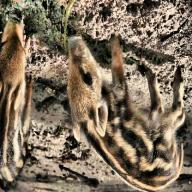boar: (62, 39, 191, 180), (0, 12, 48, 192)
